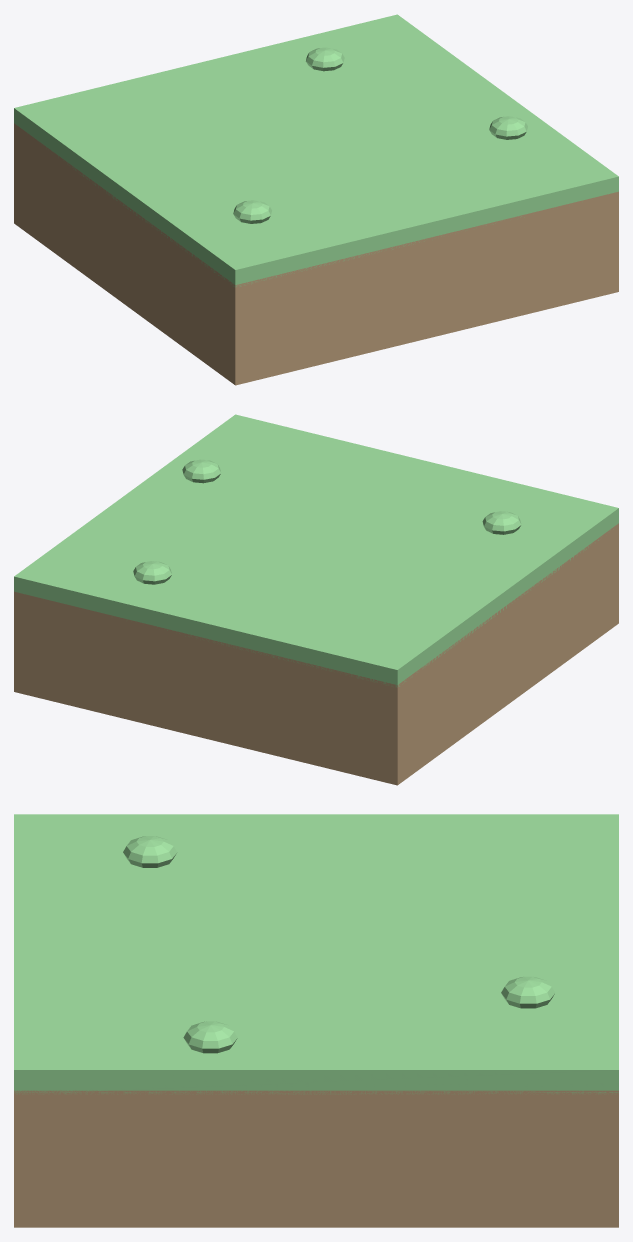
The model's file is terrain_grass.glb.
The picture shows the model from 3 angles, top to bottom: view 1: azimuth 30°, elevation 25°; view 2: azimuth 150°, elevation 25°; view 3: azimuth 270°, elevation 25°; orthographic projection. The views are drawn at different scales.
Parts seen in each view (by area): view 1: terrain_grass; view 2: terrain_grass; view 3: terrain_grass.
Part boxes in pixels (left/top/right/bottom): terrain_grass: left=14, top=14, right=618, bottom=385; terrain_grass: left=14, top=414, right=618, bottom=785; terrain_grass: left=14, top=814, right=618, bottom=1227.
Bounding box in the file's own units: 4 × 1.29 × 4.
